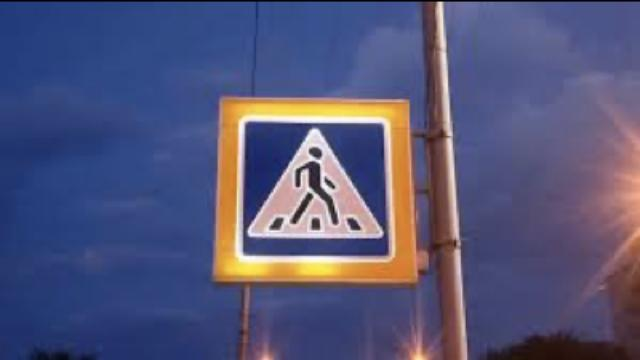crosswalk-sign: (212, 96, 418, 286)
